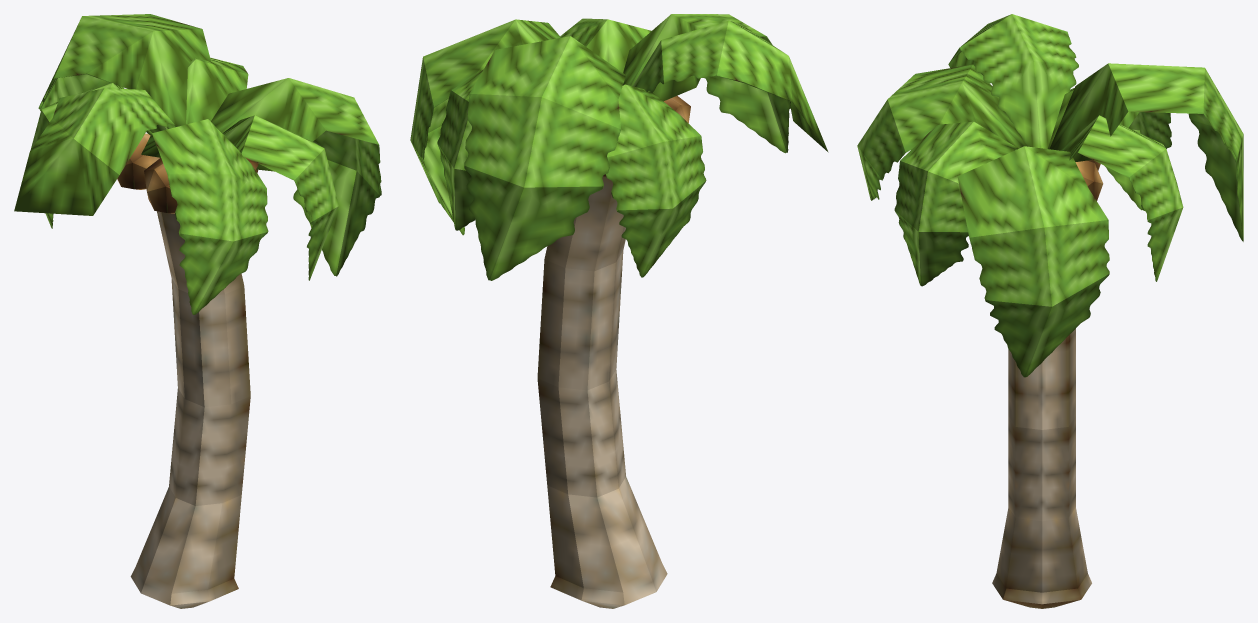
Rendered from Poly_Coconut_Tree_01.obj.
3 views of the same model, side by side, from view 1: azimuth 30°, elevation 25°; view 2: azimuth 150°, elevation 25°; view 3: azimuth 270°, elevation 25° (orthographic). The views are drawn at different scales.
Parts seen in each view (by area): view 1: Palm_body, Leaf_6, Leaf_5, Leaf_1, Leaf_3, Leaf_7, Leaf_2, Coconuts, Leaf_4; view 2: Palm_body, Leaf_3, Leaf_4, Leaf_5, Leaf_1, Leaf_6, Leaf_2, Leaf_7; view 3: Leaf_1, Palm_body, Leaf_3, Leaf_7, Leaf_5, Leaf_6, Leaf_2, Leaf_4, Coconuts.
Boxes of the visible parts, x1,y1,x2,y2 form: Palm_body: (130,211,250,608); Leaf_6: (141,119,268,314); Leaf_5: (14,88,175,215); Leaf_1: (211,78,381,276); Leaf_3: (38,14,210,126); Leaf_7: (223,115,338,280); Leaf_2: (186,57,248,124); Coconuts: (117,133,258,213); Leaf_4: (30,83,152,228); Palm_body: (537,176,667,608); Leaf_3: (464,36,625,280); Leaf_4: (605,84,706,277); Leaf_5: (633,20,828,152); Leaf_1: (410,19,560,235); Leaf_6: (623,14,790,153); Leaf_2: (437,69,483,230); Leaf_7: (560,18,651,72); Leaf_1: (957,146,1109,377); Palm_body: (992,328,1091,608); Leaf_3: (1049,63,1243,241); Leaf_7: (894,121,1018,286); Leaf_5: (948,14,1078,148); Leaf_6: (857,64,1027,200); Leaf_2: (1060,115,1183,281); Leaf_4: (1048,88,1171,210); Coconuts: (1075,160,1103,200).
Bounding box in the file's own units: 2.85 × 4.08 × 2.64.
Materials: 1 (1 with a texture image).
